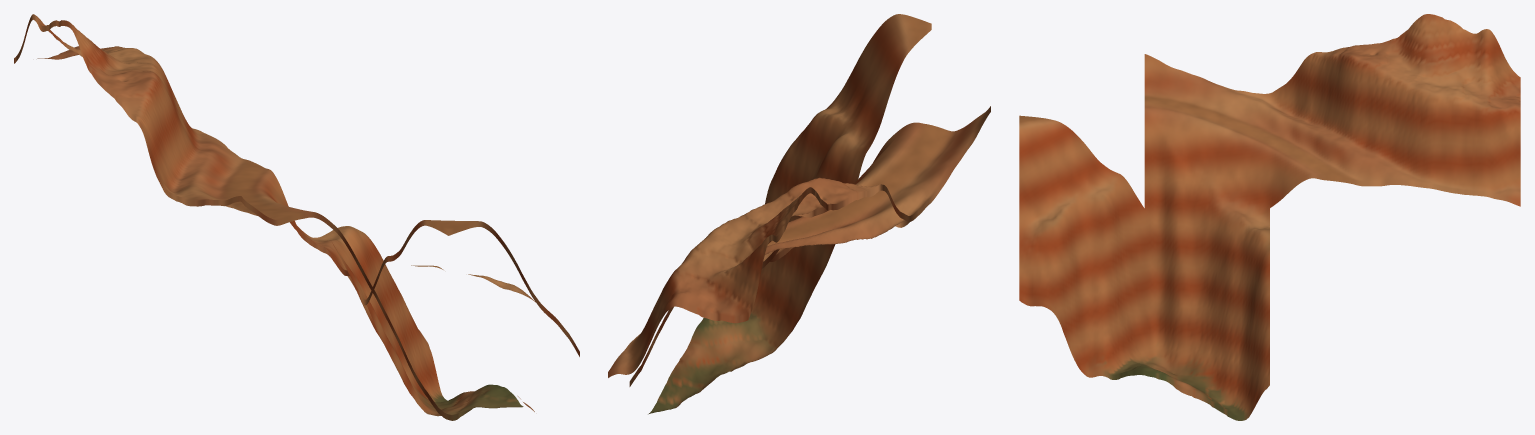
File: terrain-008.glb
3 renders of one model, left to right at view 1: azimuth 30°, elevation 25°; view 2: azimuth 150°, elevation 25°; view 3: azimuth 270°, elevation 25°, orthographic. The views are drawn at different scales.
Parts seen in each view (by area): view 1: terrain-008; view 2: terrain-008; view 3: terrain-008.
Boxes of the visible parts, x1,y1,x2,y2 form: terrain-008: (14, 14, 579, 420); terrain-008: (608, 14, 990, 414); terrain-008: (1019, 14, 1520, 420).
Size of the model in its own units: 192 by 254 by 384.
